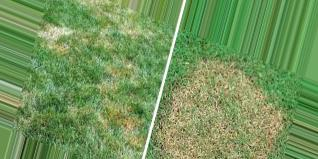patch: (181, 70, 269, 159), (117, 111, 135, 136)
